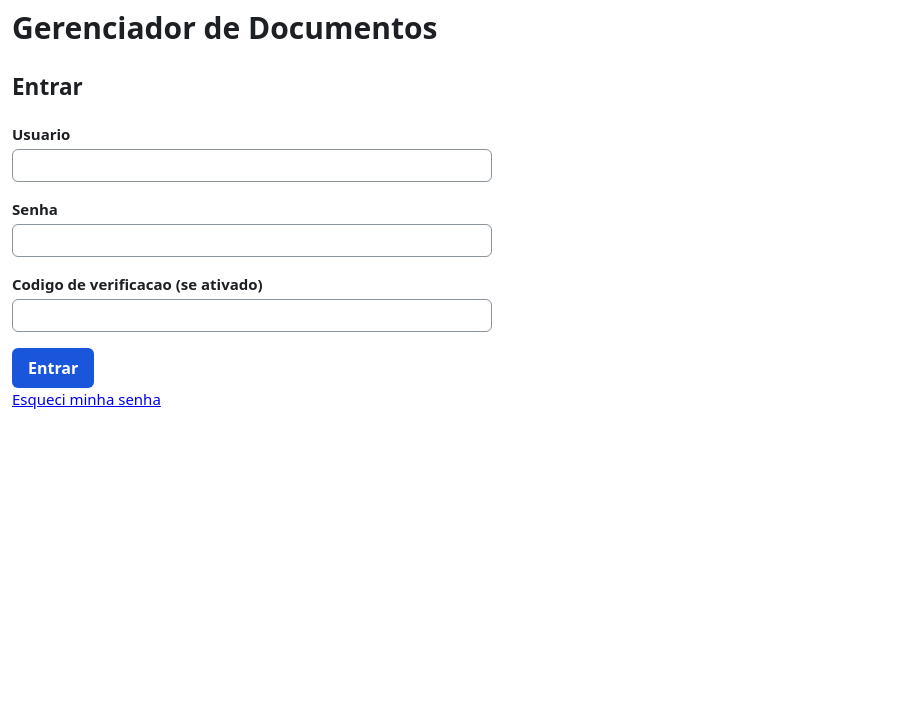
Test case: link do e-mail › sem sessao passa pelo login e volta para a tela de assinatura do documento certo
This screenshot has width=898, height=705.
Expected: the heading "Entrar" is shown, x1=12 y1=71 x2=83 y2=102
Type "bruno" into the field labelled "Usuario".
click(252, 165); type("bruno")  # box x1=12 y1=149 x2=492 y2=182
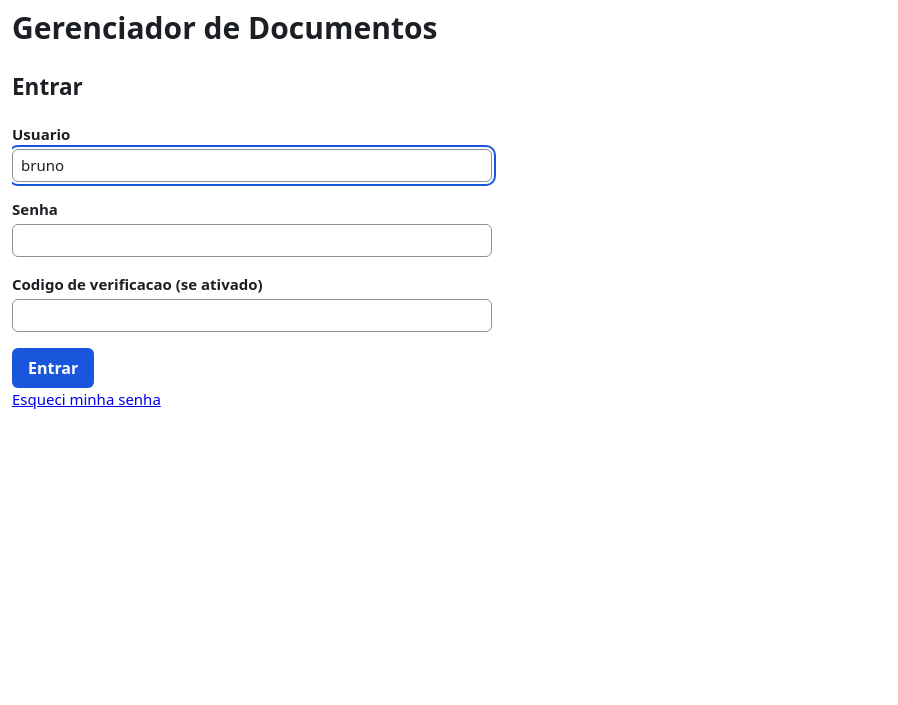
Type "s3cret-pass" into the password field labelled "Senha".
click(252, 240); type("s3cret-pass")  # box x1=12 y1=224 x2=492 y2=257
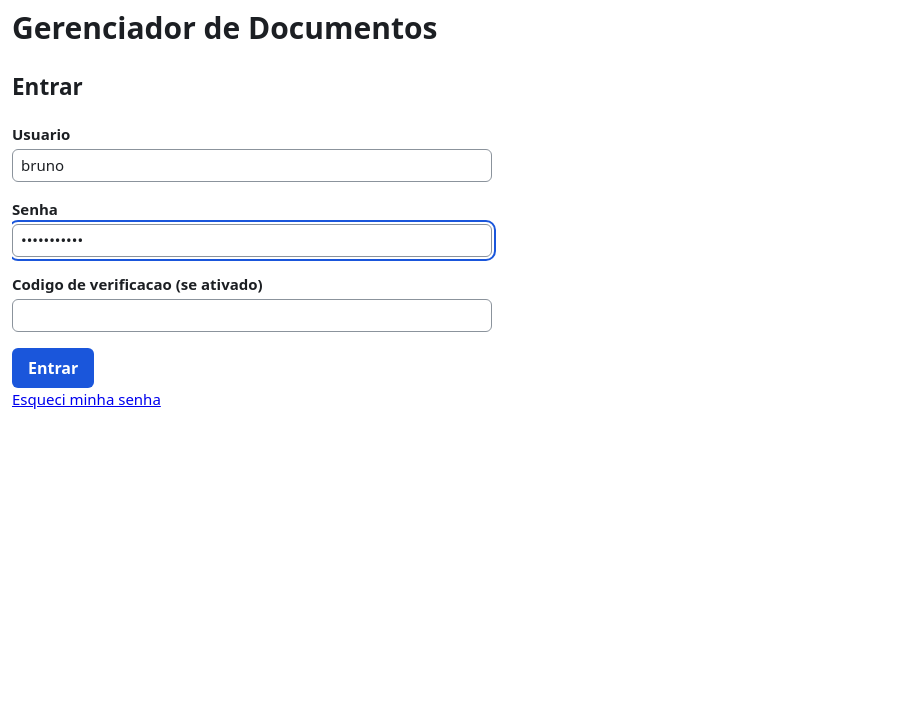
Click the button "Entrar".
click(53, 368)  # box x1=12 y1=348 x2=94 y2=388
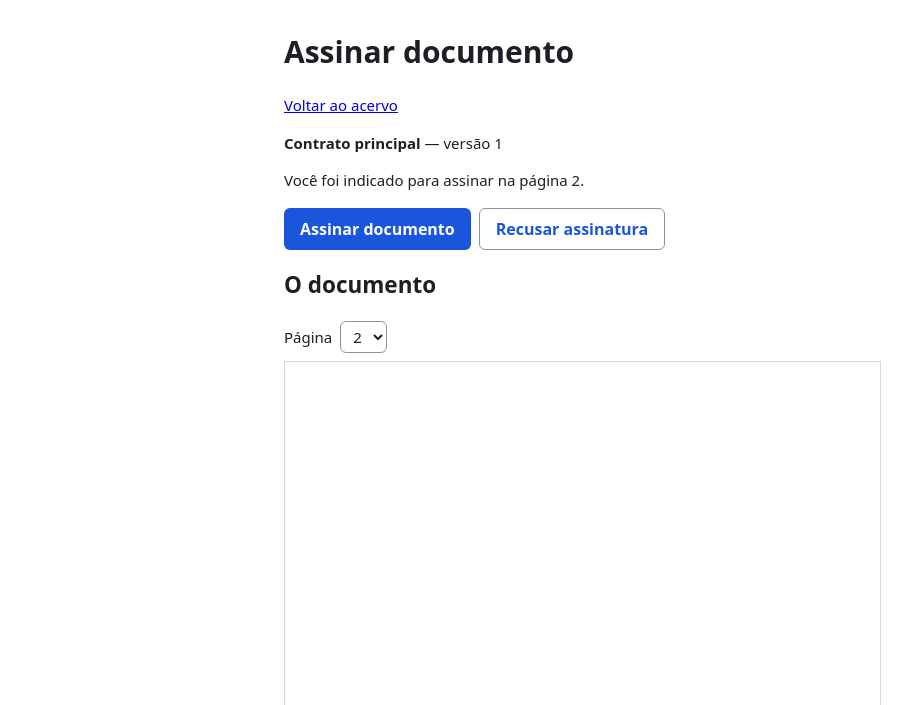
Expected: the heading "Assinar documento" is shown, x1=284 y1=31 x2=574 y2=72
